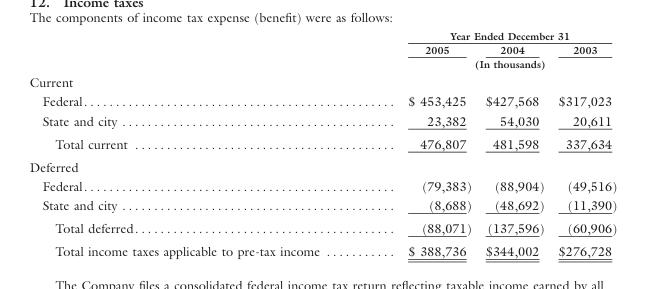table: (28, 28, 616, 258)
table column: (28, 28, 400, 258), (400, 28, 477, 258), (477, 28, 550, 258), (550, 28, 616, 258)
table column header: (28, 28, 616, 72)
table projected row header: (28, 154, 616, 175), (28, 72, 616, 91)
table row: (28, 131, 616, 154), (28, 215, 616, 238), (28, 110, 616, 131), (28, 154, 616, 175), (28, 194, 616, 215), (28, 238, 616, 258), (28, 72, 616, 91), (28, 91, 616, 110), (28, 175, 616, 194), (28, 56, 616, 72), (28, 28, 616, 42), (28, 42, 616, 56)
table spanning cell: (400, 56, 616, 72), (400, 28, 616, 42)
